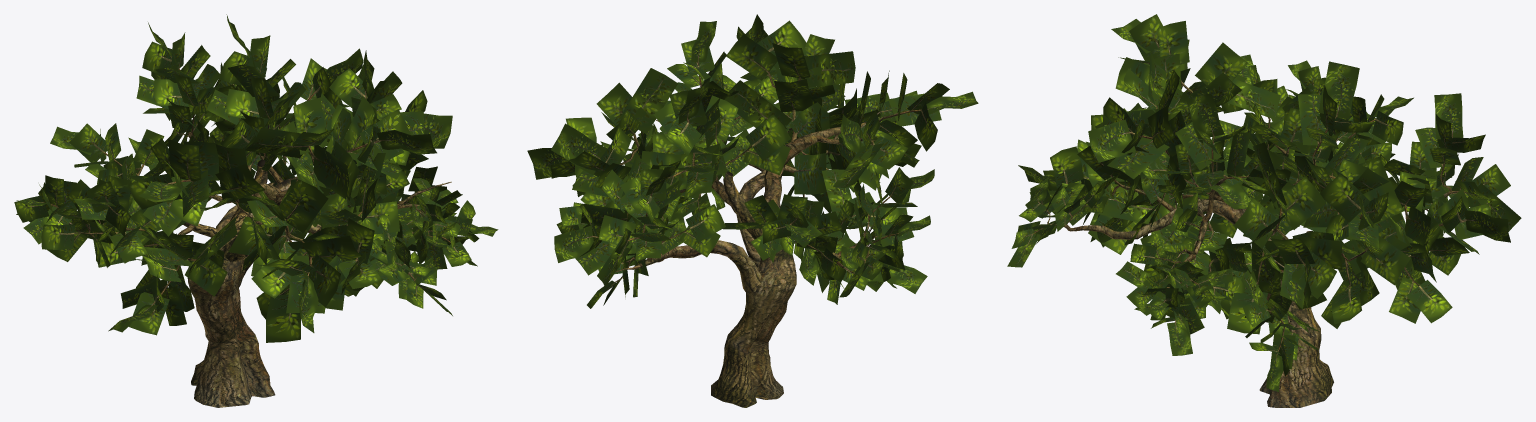
The model's file is Tree_A_high.FBX.
3 views of the same model, side by side, from view 1: azimuth 30°, elevation 25°; view 2: azimuth 150°, elevation 25°; view 3: azimuth 270°, elevation 25° (orthographic). The views are drawn at different scales.
Parts seen in each view (by area): view 1: Tree_A_high; view 2: Tree_A_high; view 3: Tree_A_high.
Part boxes in pixels (bbox=[...]): Tree_A_high: bbox=[14, 14, 498, 407]; Tree_A_high: bbox=[527, 14, 978, 407]; Tree_A_high: bbox=[1007, 14, 1521, 407].
Size of the model in its own units: 2017 by 1544 by 2102.
